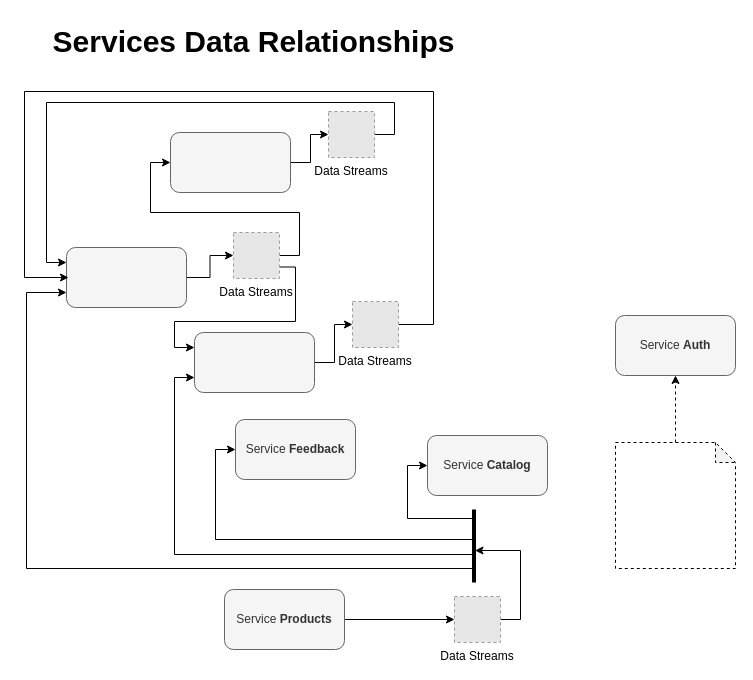
Image size: 753x680. Some labels were removed from this diagram. Grey dashed boxes stand in for pictures. The shapes that lost their labels are listed below. From the top down, each one's box as (x1, y1, x2, y2) in pixels, then its label:
(170, 132, 290, 192): Service Payments
(66, 246, 186, 308): Service Orders
(194, 332, 314, 392): Service Cart
(614, 442, 736, 568): Communication between services is done via access tokens issued by service
